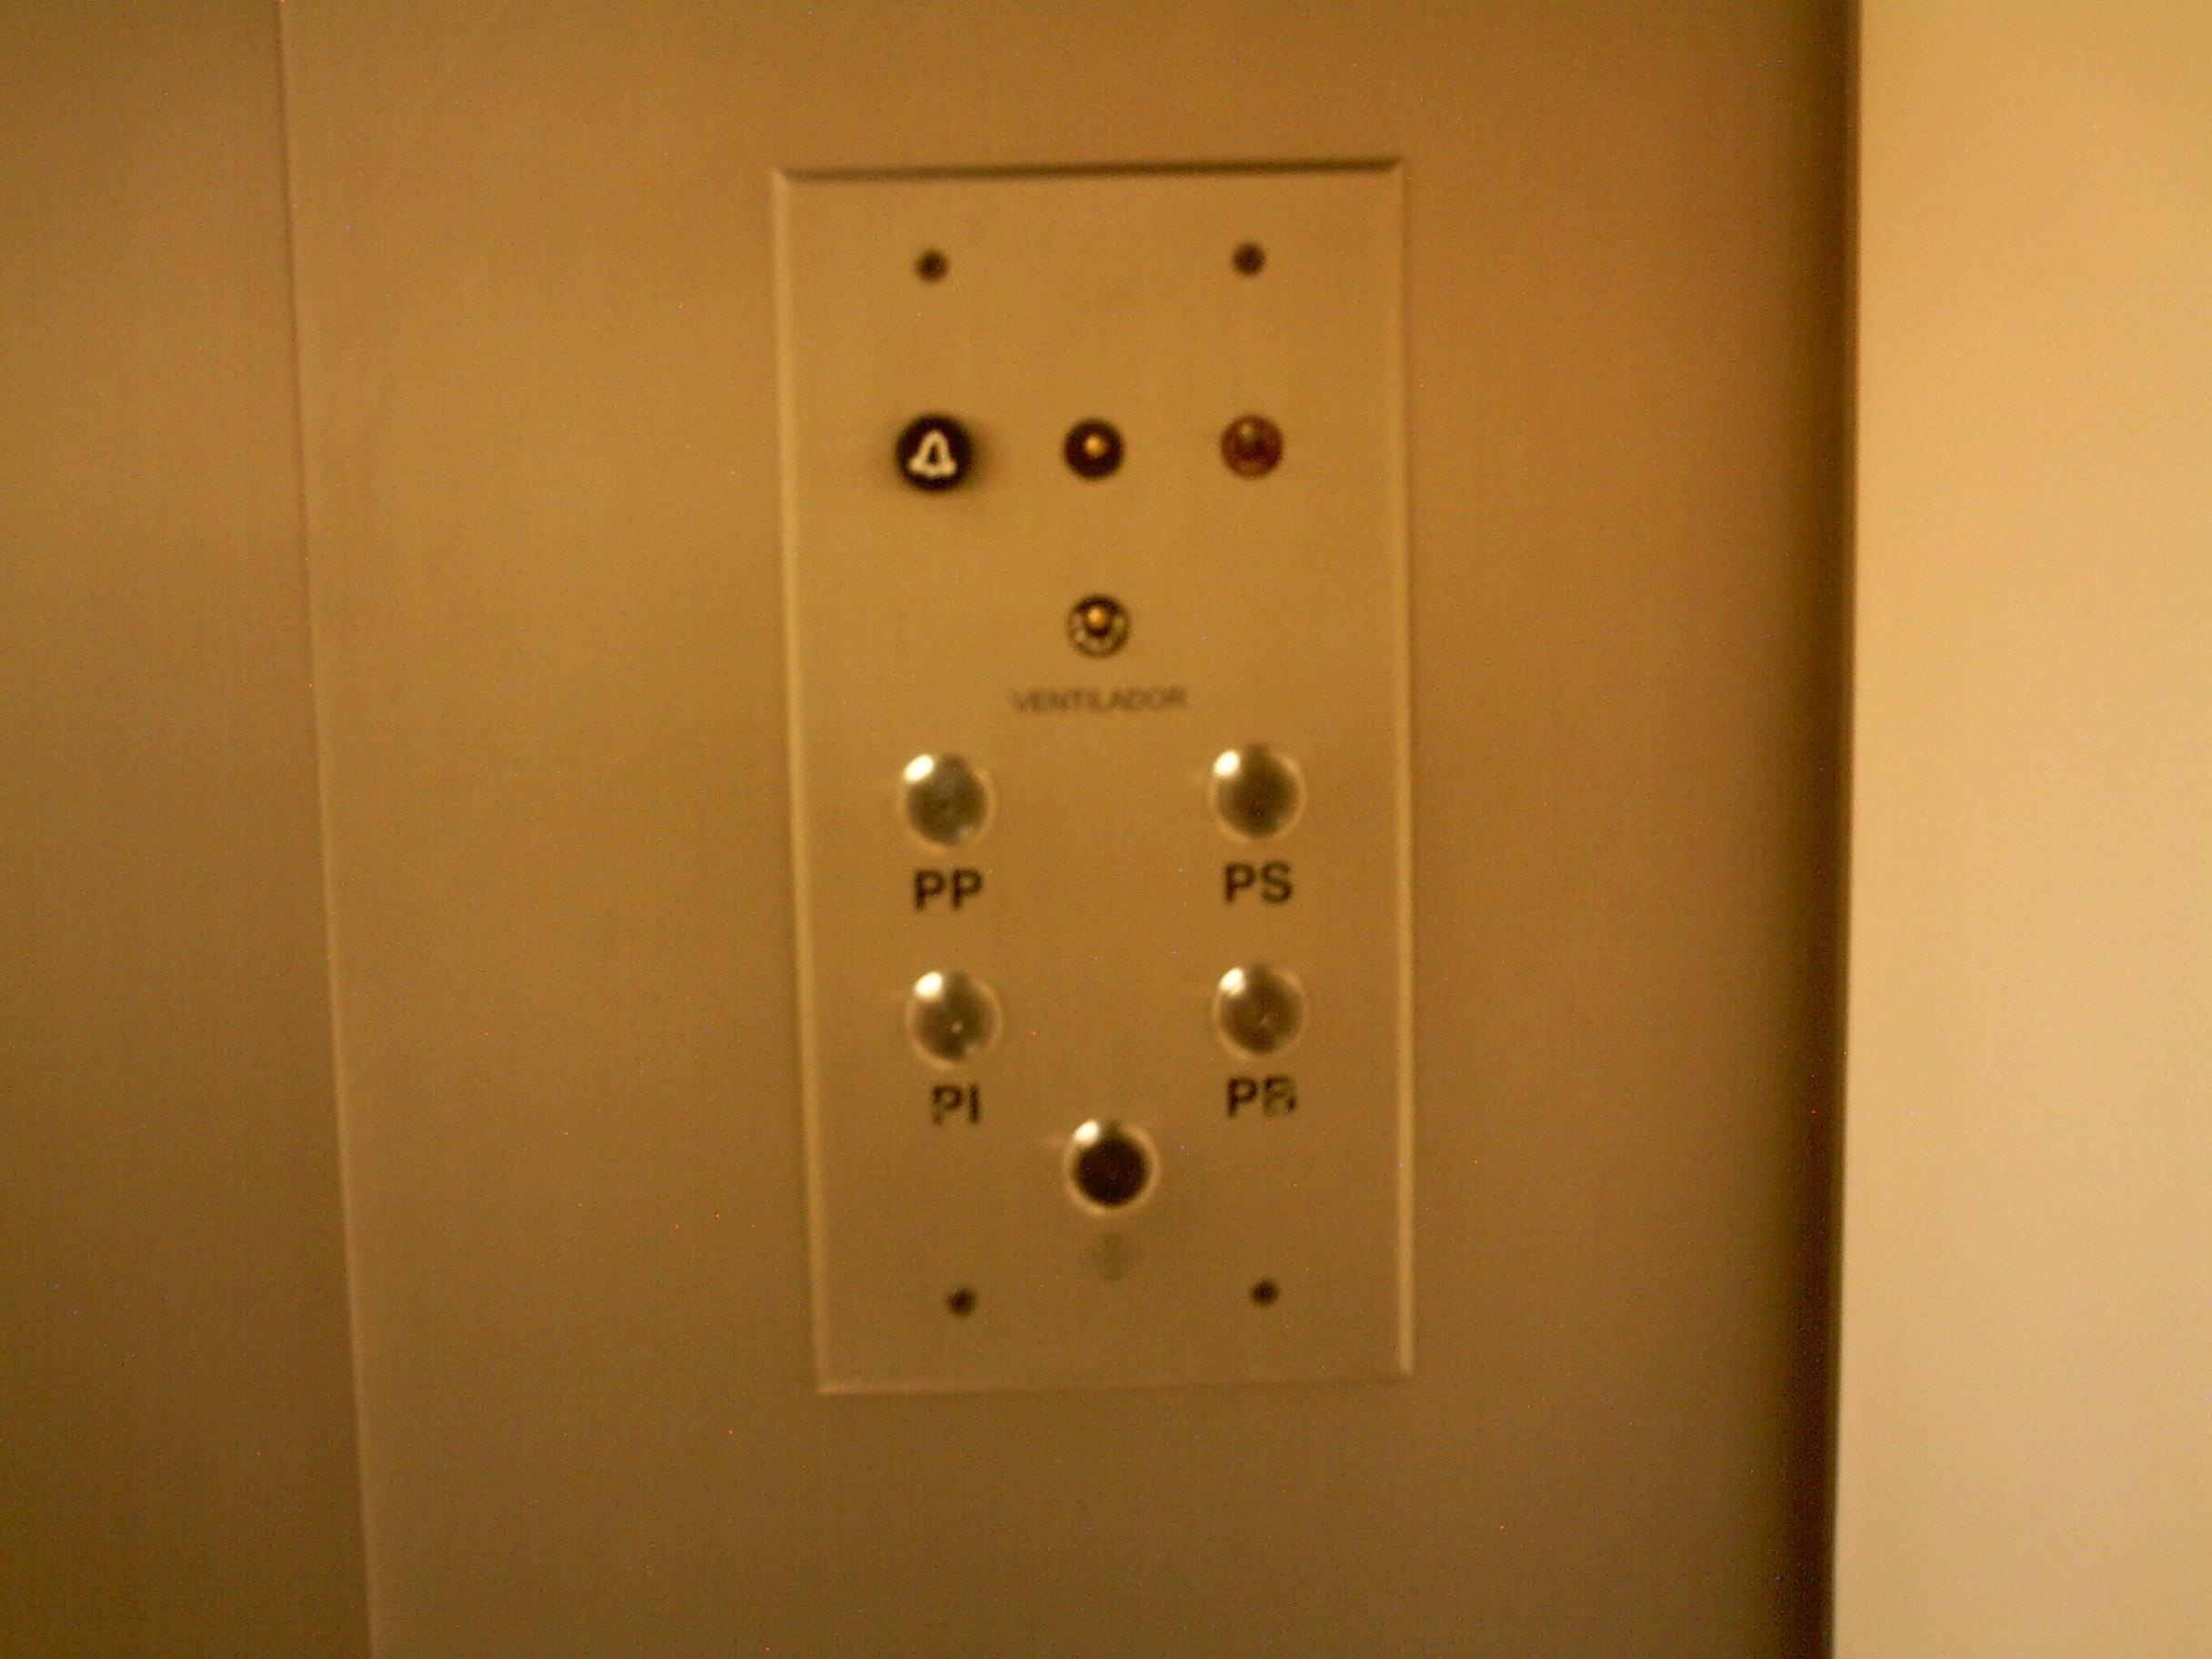alarm: (888, 411, 979, 500)
empty: (1204, 737, 1308, 856), (892, 748, 996, 859), (1204, 958, 1310, 1066), (1059, 1117, 1162, 1222), (904, 972, 1003, 1075)
indicator: (1216, 413, 1282, 479), (1062, 592, 1129, 659), (1061, 418, 1125, 479)
